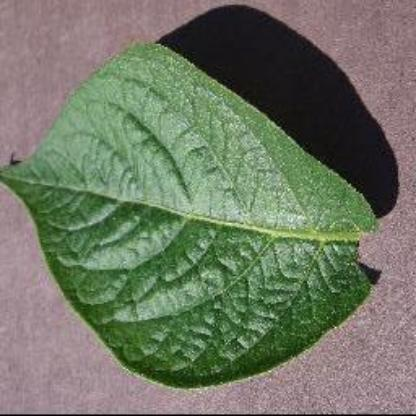Healthy-plant: (1, 23, 387, 393)
